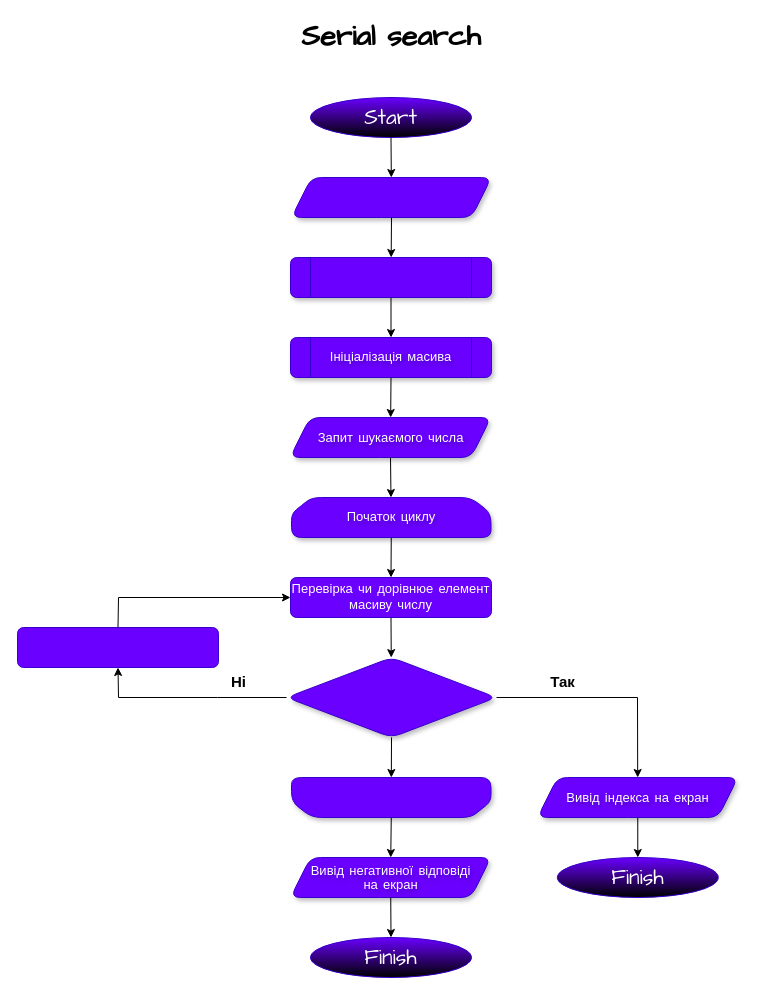
This 762x995 diagram has some shape labels left out. The centre of each missing label's shape, as x and y in pixels:
Елемент під індексом і дорівнює числу ?: the point at 392,698
Запит на розмір масива: the point at 392,198
Збільшення індекса елемента на 1: the point at 117,647
Кінець циклу: the point at 391,798
Створення масива: the point at 392,278
